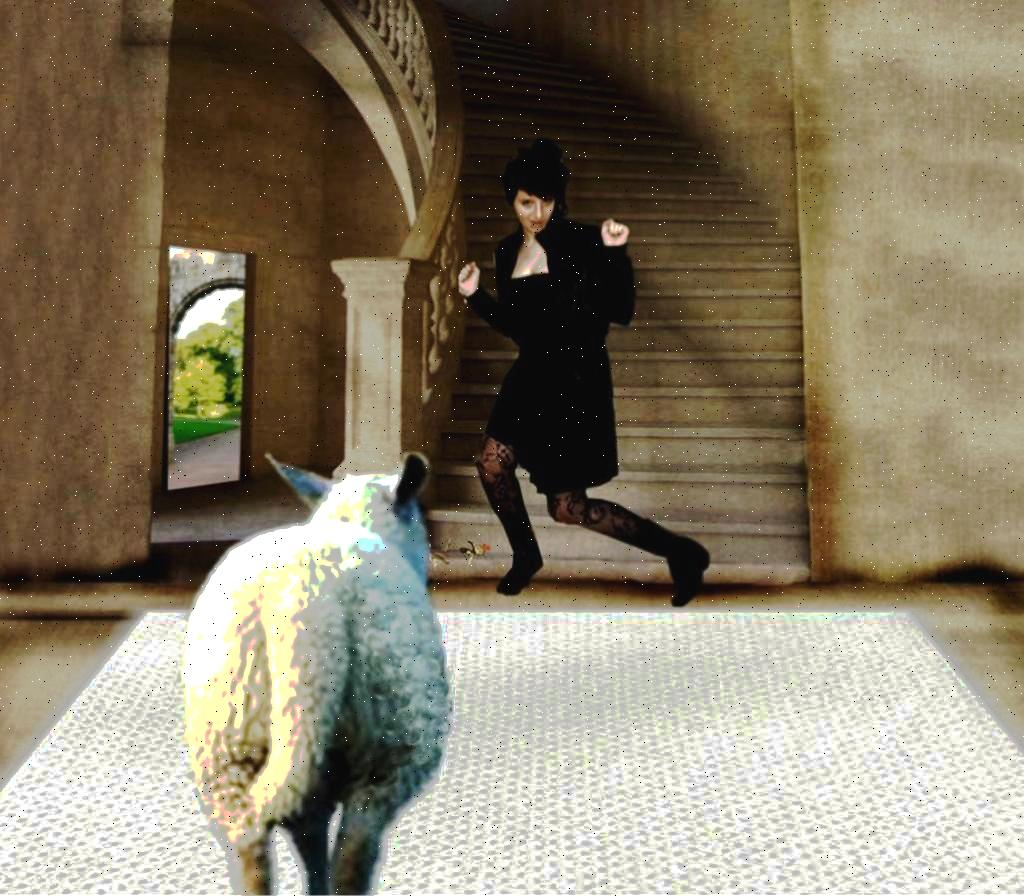Sheep: (186, 452, 452, 895)
